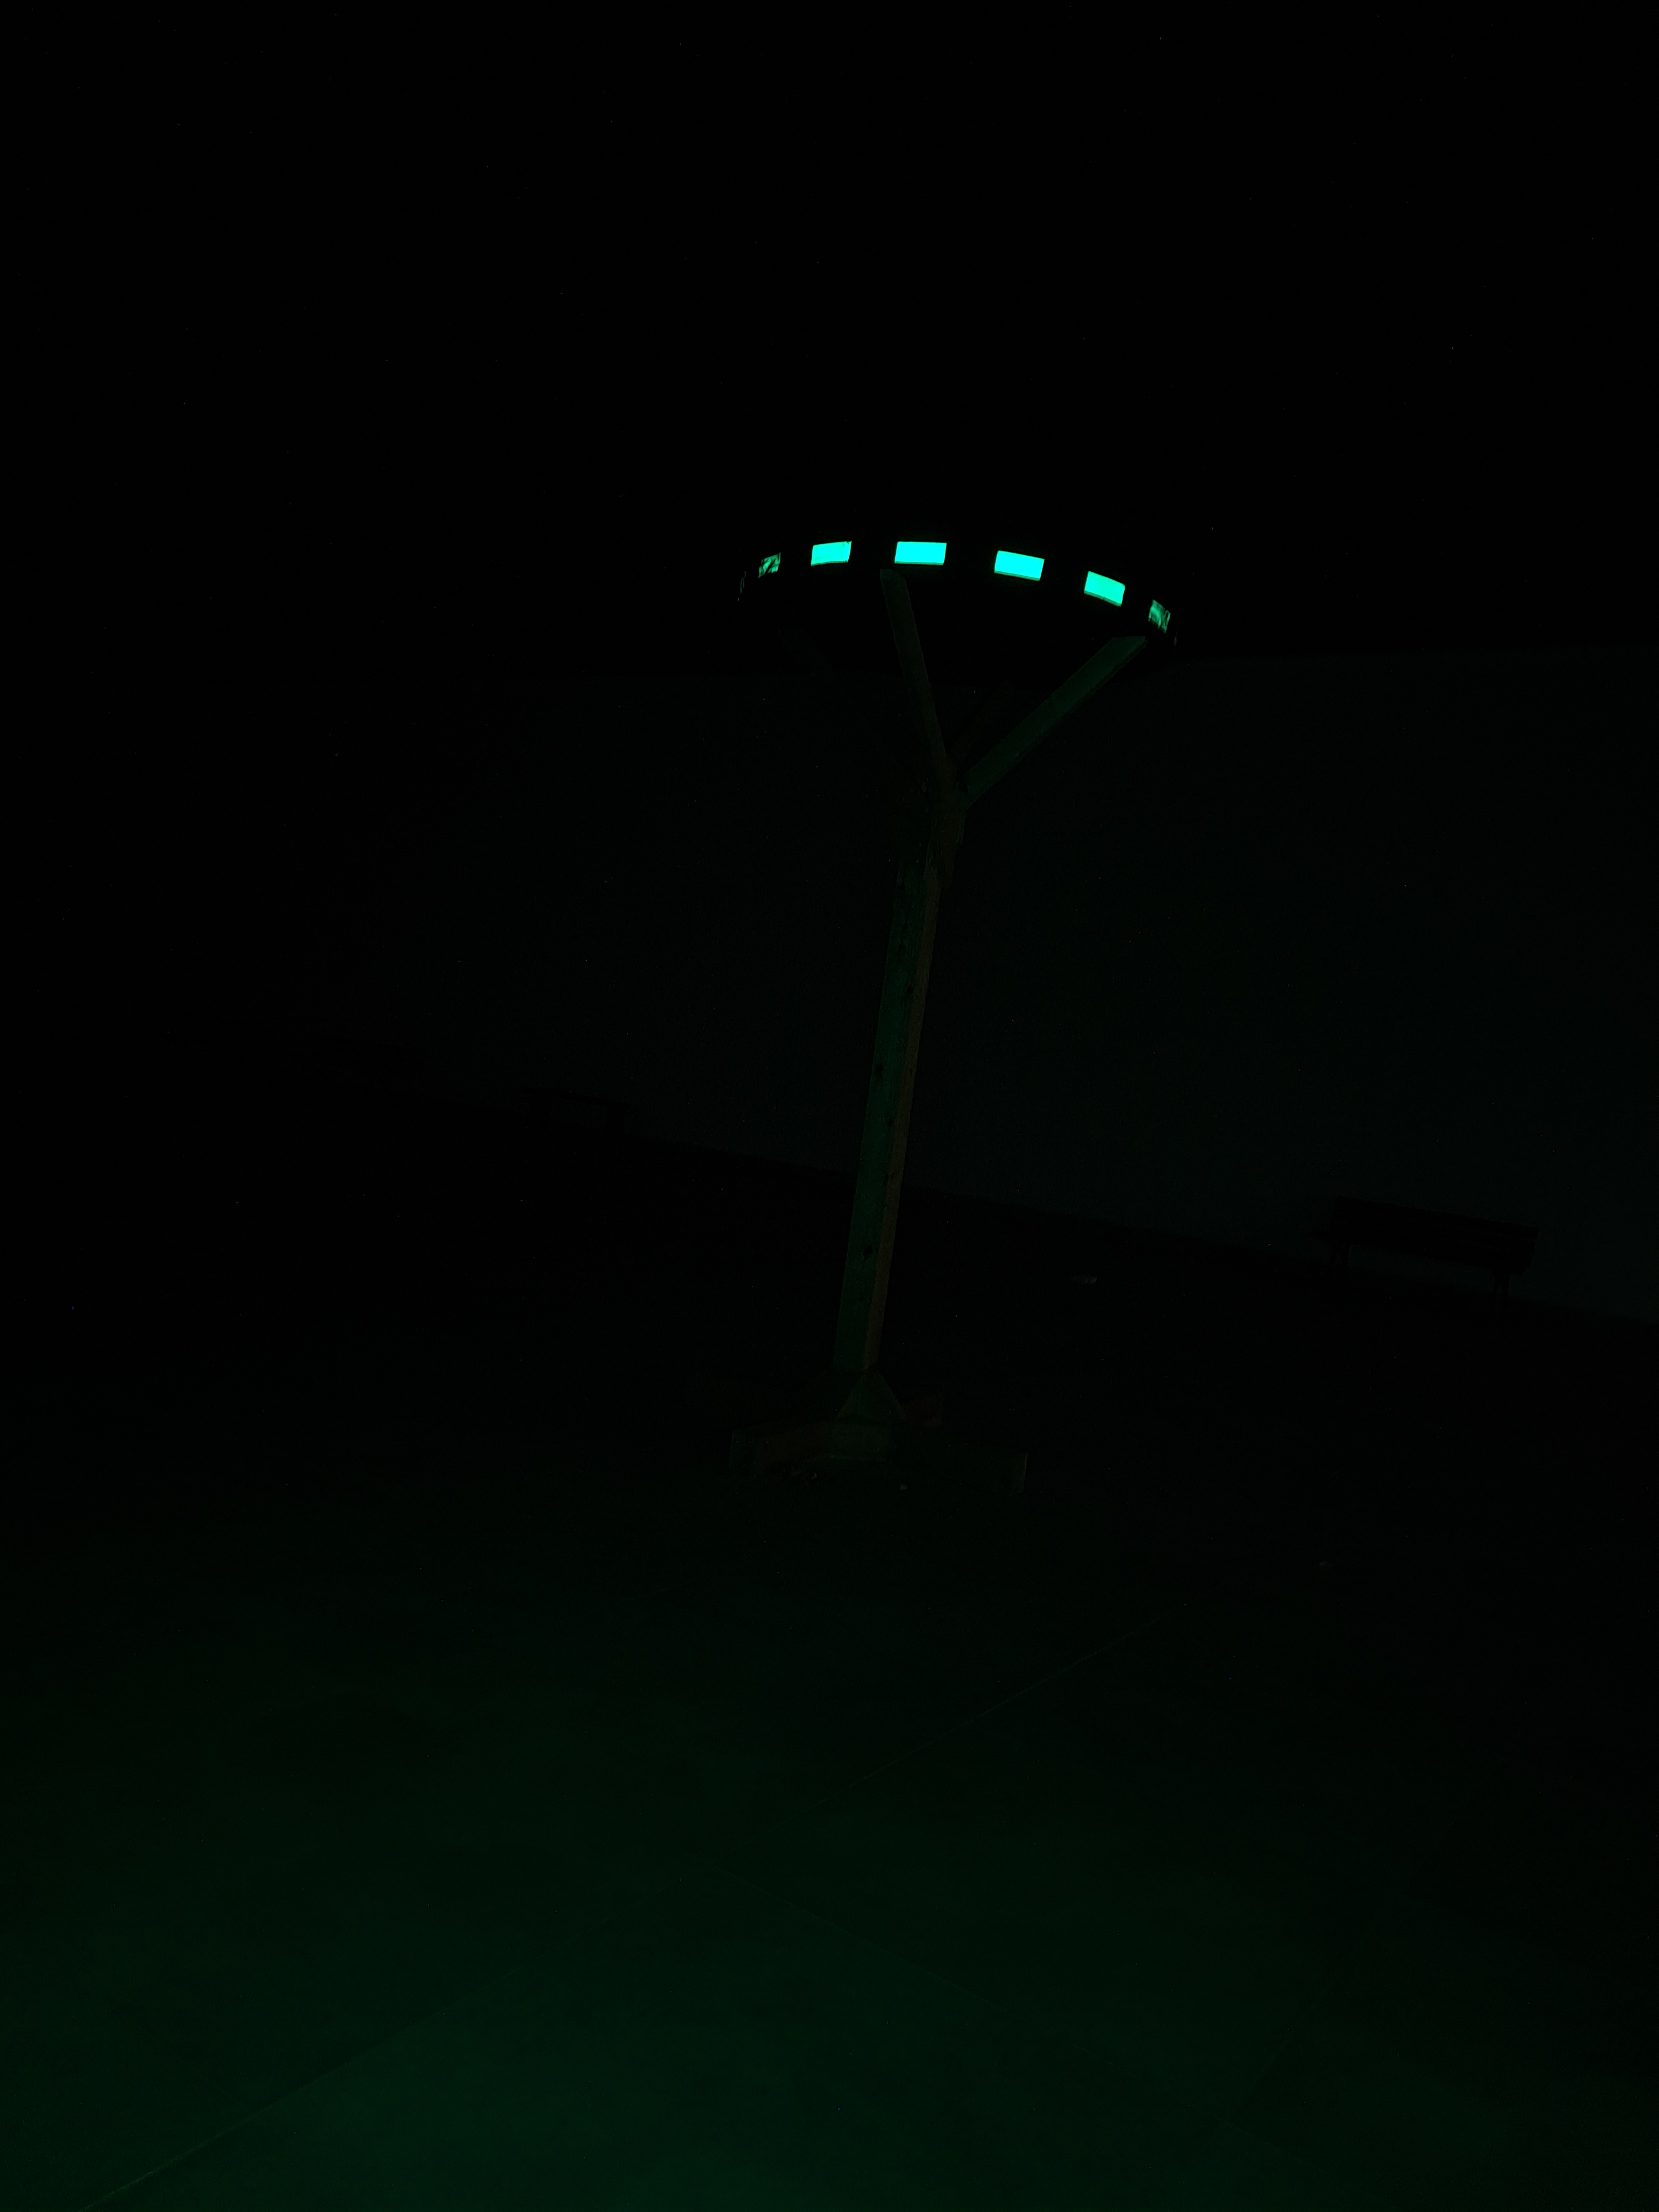hoop: (755, 538, 1173, 634)
